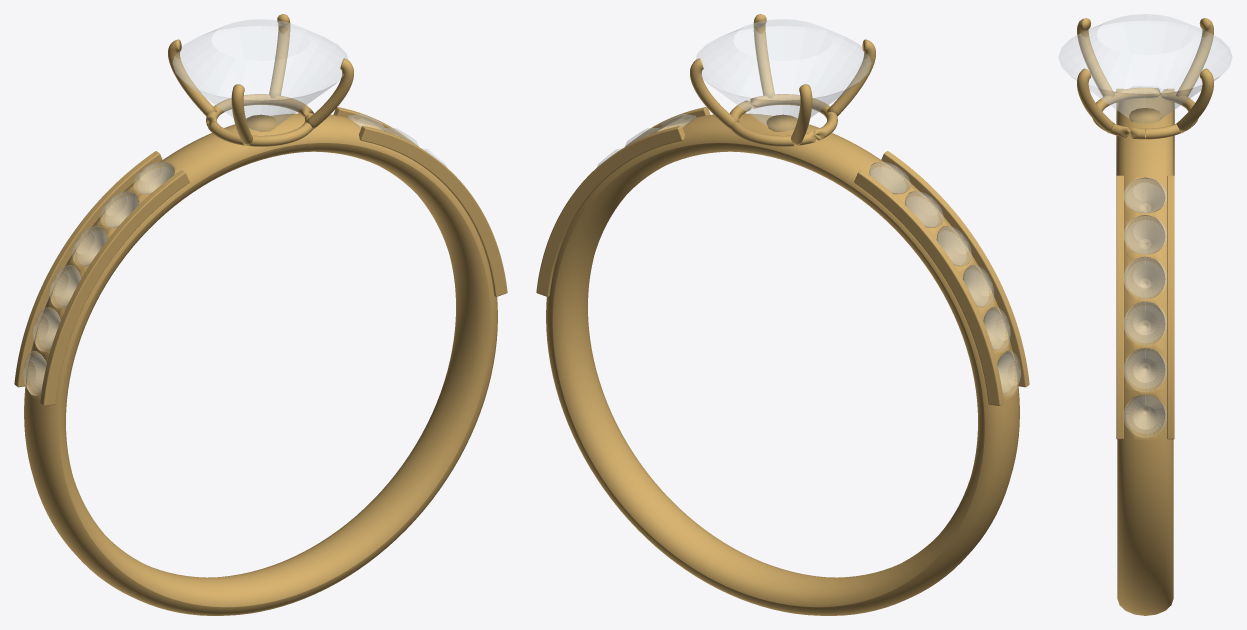
File: accents-channel.glb
3 renders of one model, left to right at view 1: azimuth 30°, elevation 25°; view 2: azimuth 150°, elevation 25°; view 3: azimuth 270°, elevation 25°, orthographic.
Parts seen in each view (by area): view 1: Band, Gem, Channel wall, Channel wall.002, Channel wall.001, Lower gallery, Prong.001, Prong, Prong.003, Gem.003, Gem.002, Gem.004 (+4 smaller); view 2: Band, Gem, Channel wall.001, Channel wall.003, Channel wall, Lower gallery, Prong.002, Prong.003, Prong, Gem.003, Gem.002, Gem.004 (+4 smaller); view 3: Band, Gem, Channel wall.002, Channel wall.003, Lower gallery, Gem.011, Gem.010, Gem.012, Gem.009, Gem.008, Gem.007, Prong.001 (+4 smaller).
Part boxes in pixels (x1,y1,x2,y2): Band: [24, 113, 497, 615]; Gem: [172, 19, 348, 130]; Channel wall: [40, 170, 189, 405]; Channel wall.002: [359, 126, 507, 296]; Channel wall.001: [14, 151, 162, 387]; Lower gallery: [206, 94, 313, 146]; Prong.001: [168, 39, 217, 116]; Prong: [269, 14, 290, 98]; Prong.003: [304, 58, 353, 130]; Gem.003: [72, 226, 107, 265]; Gem.002: [100, 191, 138, 227]; Gem.004: [50, 265, 80, 307]; Band: [546, 113, 1019, 615]; Gem: [695, 19, 871, 130]; Channel wall.001: [854, 170, 1003, 405]; Channel wall.003: [536, 126, 684, 296]; Channel wall: [881, 151, 1029, 387]; Lower gallery: [730, 94, 837, 146]; Prong.002: [826, 39, 875, 116]; Prong.003: [753, 14, 774, 98]; Prong: [690, 58, 739, 130]; Gem.003: [936, 226, 971, 265]; Gem.002: [905, 191, 943, 227]; Gem.004: [963, 265, 993, 307]; Band: [1117, 96, 1173, 615]; Gem: [1058, 14, 1232, 123]; Channel wall.002: [1116, 175, 1123, 439]; Channel wall.003: [1167, 175, 1174, 439]; Lower gallery: [1092, 87, 1198, 139]; Gem.011: [1124, 348, 1166, 392]; Gem.010: [1124, 301, 1166, 345]; Gem.012: [1124, 395, 1166, 437]; Gem.009: [1124, 257, 1166, 298]; Gem.008: [1124, 215, 1166, 254]; Gem.007: [1124, 178, 1166, 212]; Prong.001: [1176, 18, 1213, 96].
Size of the model in its own units: 19.79 by 22.94 by 6.5.
